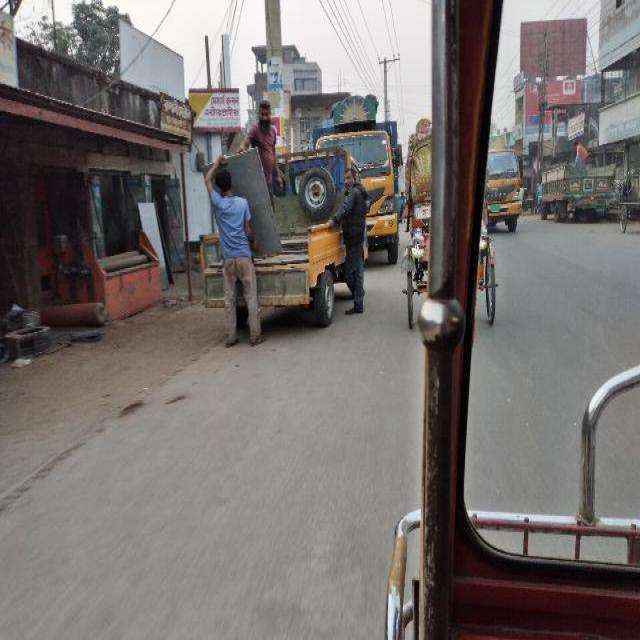vehicle: (199, 151, 353, 328), (405, 121, 506, 337), (307, 98, 401, 262), (537, 164, 615, 222), (483, 148, 522, 238)
